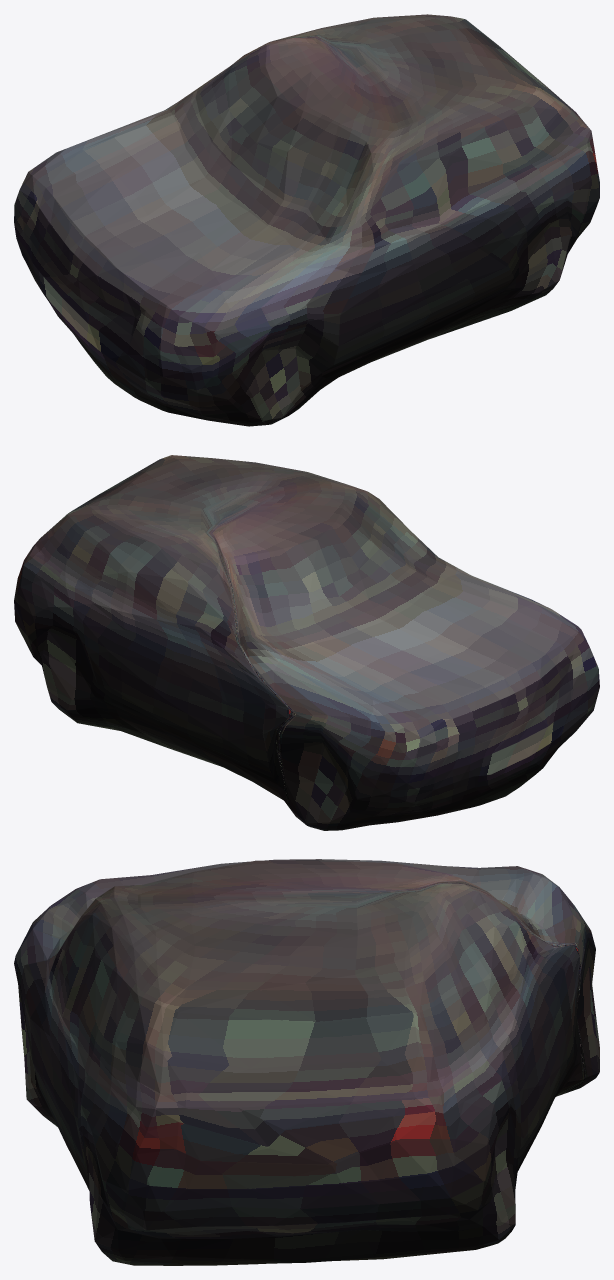
The model's file is video3_387.obj.
The picture shows the model from 3 angles, top to bottom: view 1: azimuth 30°, elevation 25°; view 2: azimuth 150°, elevation 25°; view 3: azimuth 270°, elevation 25°; orthographic projection. The views are drawn at different scales.
Bounding box in the file's own units: 1 × 0.4929 × 0.7476.
1 material, 1 textured.
